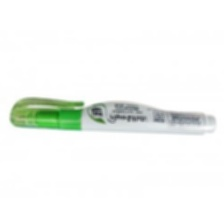correction_fluid: (5, 94, 218, 136)
